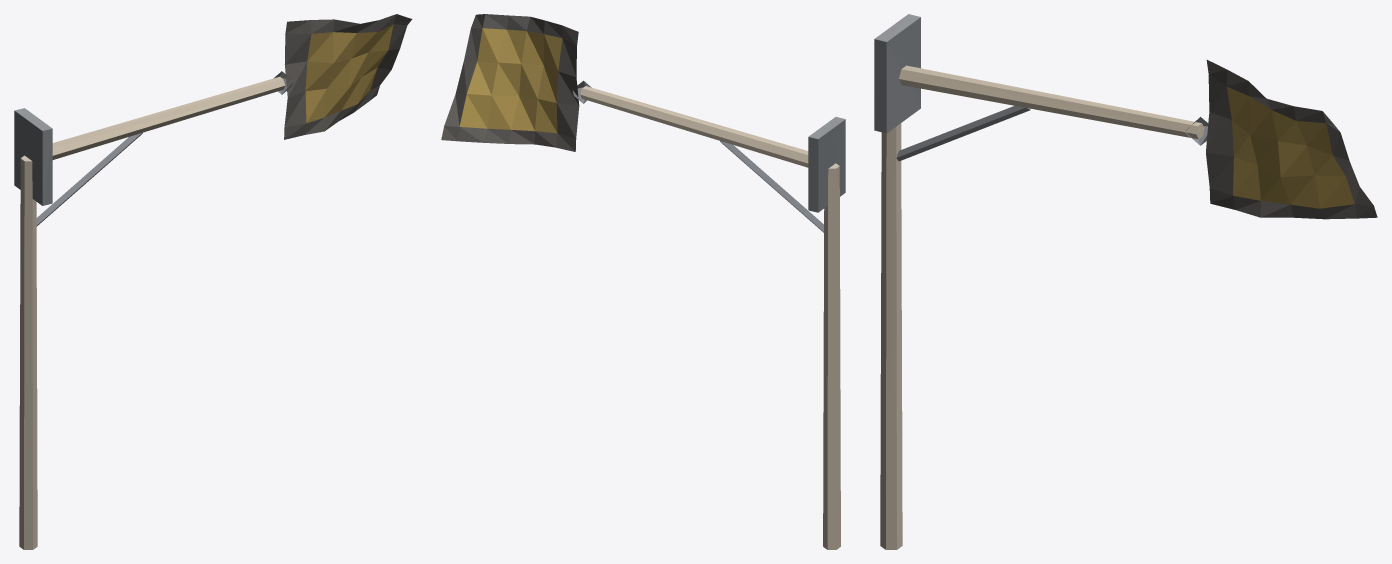
File: flag.square.huangqi__pole.horizontal.xiecheng__armFly.glb
3 renders of one model, left to right at view 1: azimuth 30°, elevation 25°; view 2: azimuth 150°, elevation 25°; view 3: azimuth 330°, elevation 25°, orthographic. The views are drawn at different scales.
Visible parts, largest first — view 1: flag.square.huangqi; view 2: flag.square.huangqi; view 3: flag.square.huangqi.
Boxes of the visible parts, box(x1,y1,x2,y2) form: flag.square.huangqi: box(14, 14, 412, 549); flag.square.huangqi: box(441, 14, 845, 549); flag.square.huangqi: box(874, 14, 1377, 549).
Size of the model in its own units: 2.97 by 3.45 by 0.5288.
